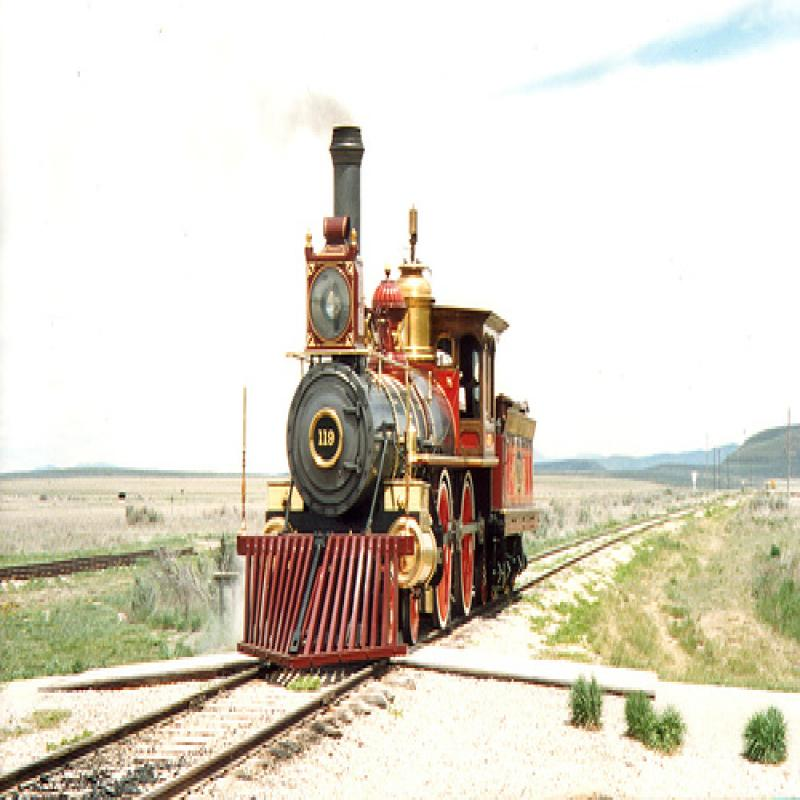train: (236, 125, 537, 675)
